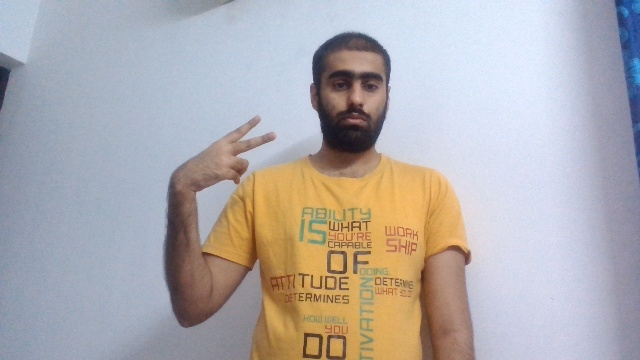scissors: (166, 114, 277, 195)
